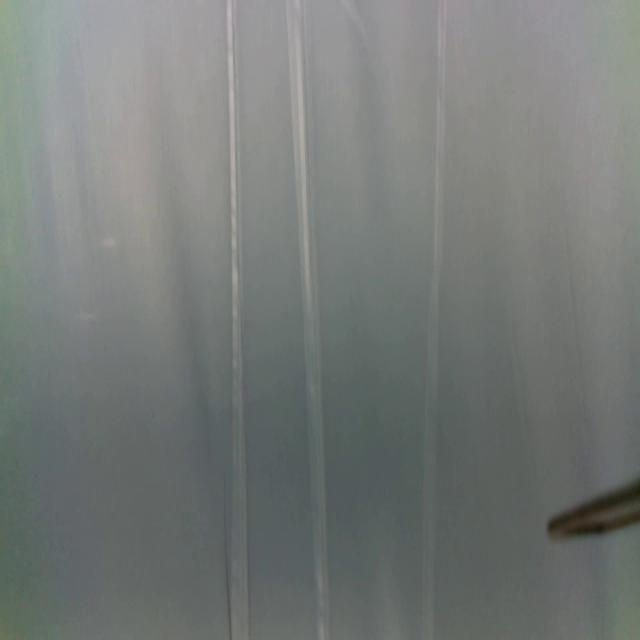crease: (286, 0, 332, 640), (419, 0, 450, 639), (225, 0, 253, 640), (560, 190, 588, 428)
